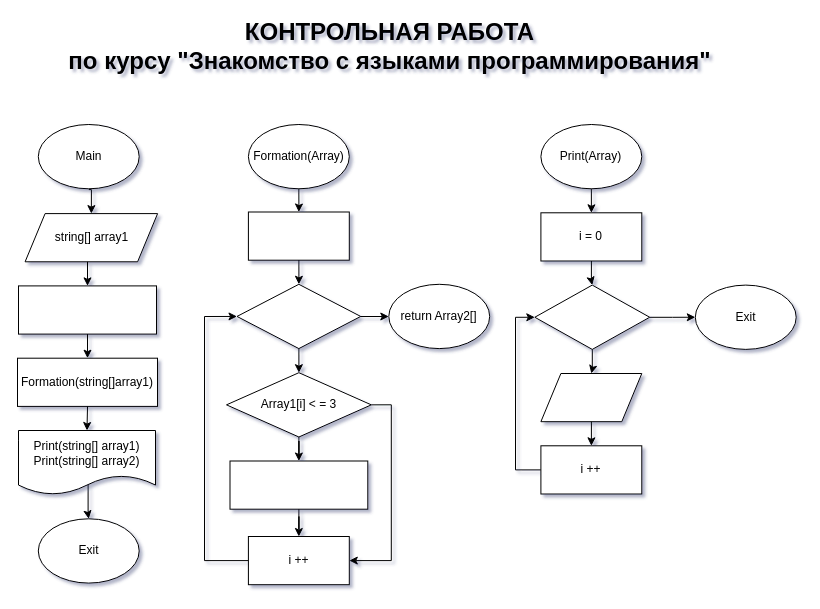
Some shapes in this 820 by 609 pixel diagram are drawn without their labels. Each missing label, with the centre of its shape:
"Array2[count] = Array1[i] count++" goes at point 298,484.
"Array[i]" goes at point 591,397.
"i < array.Length" goes at point 592,316.
"i < array1.Length" goes at point 298,316.
"i = 0 count = 0" goes at point 298,235.
"string[] array2" goes at point 87,309.
